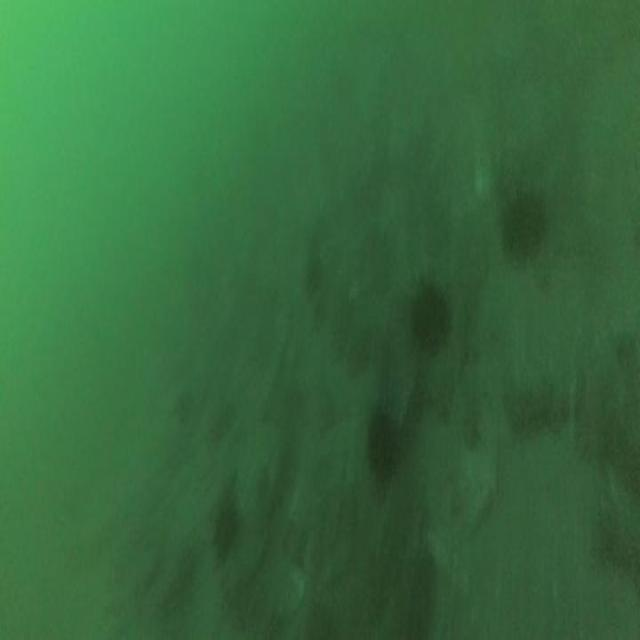echinus: (494, 179, 548, 270), (408, 273, 452, 365), (364, 400, 404, 490), (209, 493, 240, 569)
